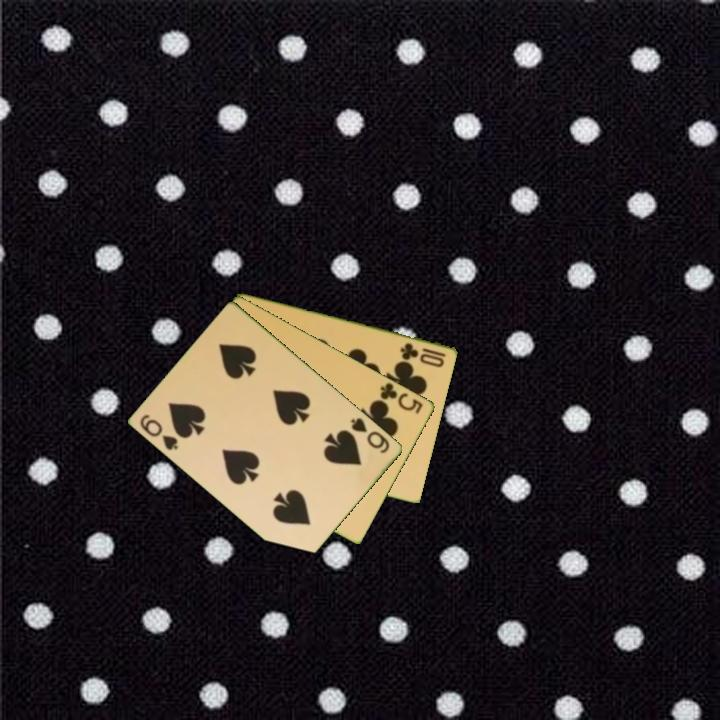10c: (397, 339, 449, 370)
5c: (376, 379, 426, 417)
6s: (347, 414, 393, 456), (137, 411, 182, 453)
